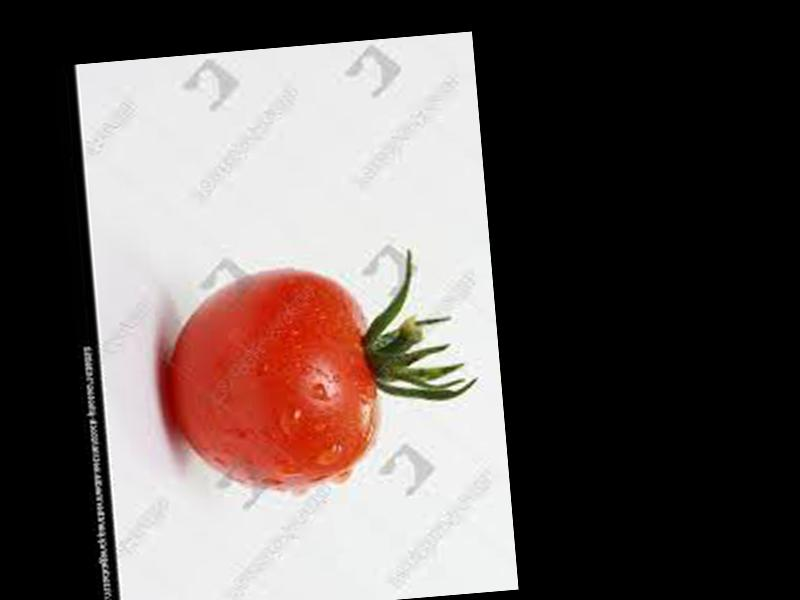Tomato: (158, 262, 383, 494)
